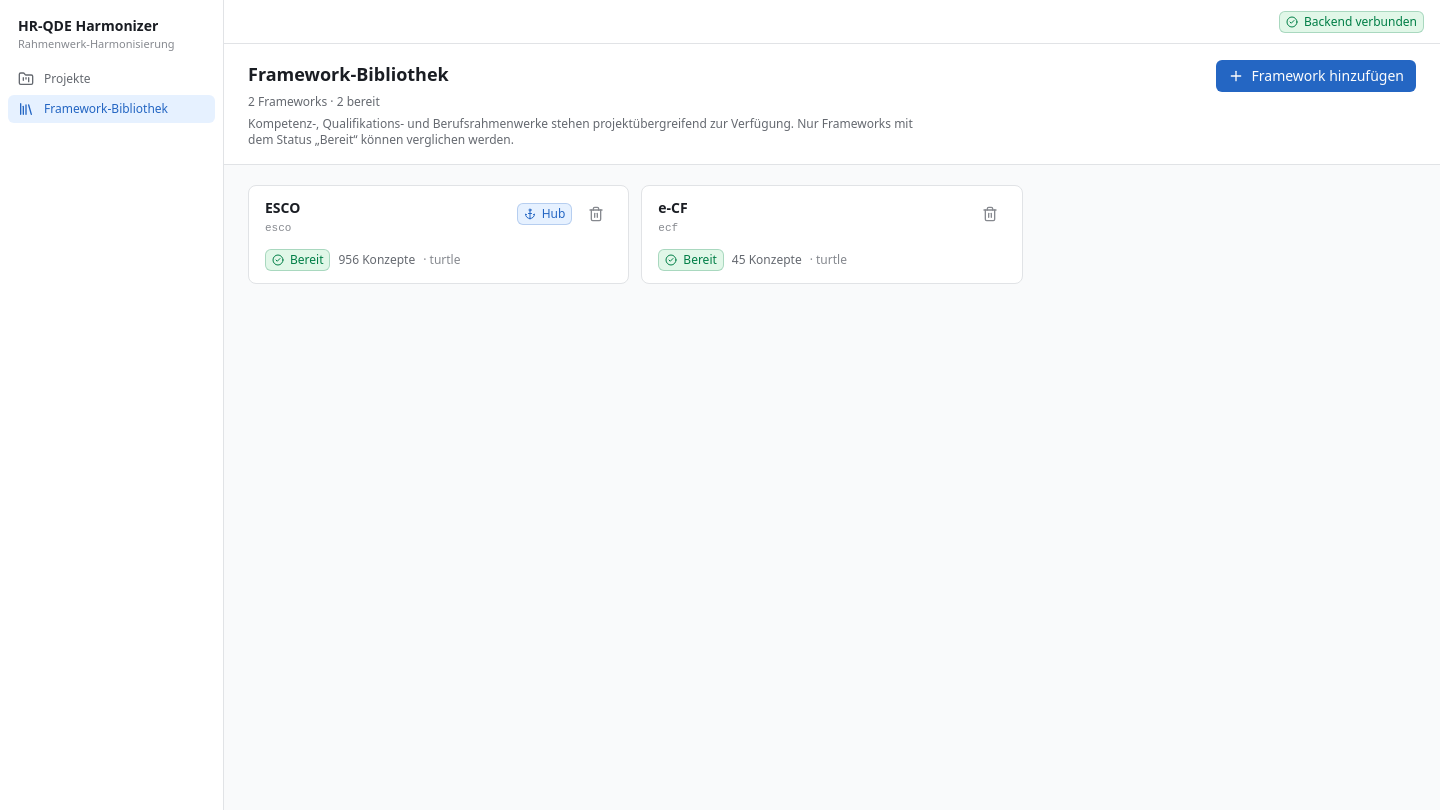
Framework hochladen › bietet die kommentierte SKOS-Vorlage vor dem Upload an
The width and height of the screenshot is (1440, 810).
Click the button "Framework hinzufügen". click: (1316, 76)
box: top-left (1216, 60), bottom-right (1416, 92)
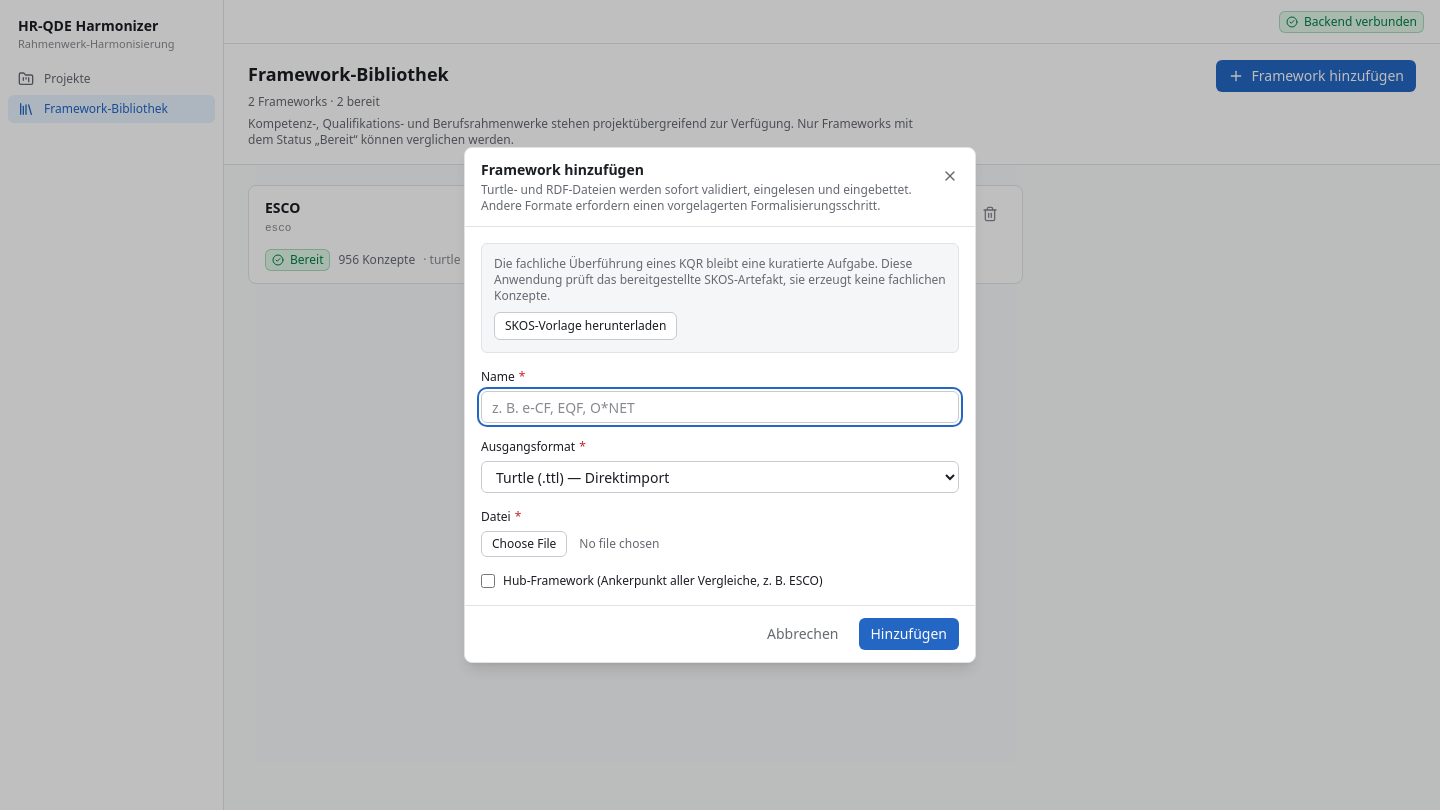
expect the button "SKOS-Vorlage herunterladen" is shown: met, box top-left (494, 312), bottom-right (677, 340)
expect the text "fachliche Überführung eines KQR bleibt eine kuratierte Aufgabe" is shown: met, box top-left (494, 255), bottom-right (946, 304)
